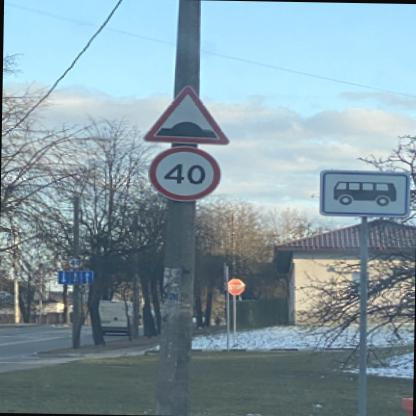speedlimit: (144, 145, 222, 200), (66, 254, 82, 268)
stop: (224, 277, 244, 295)
